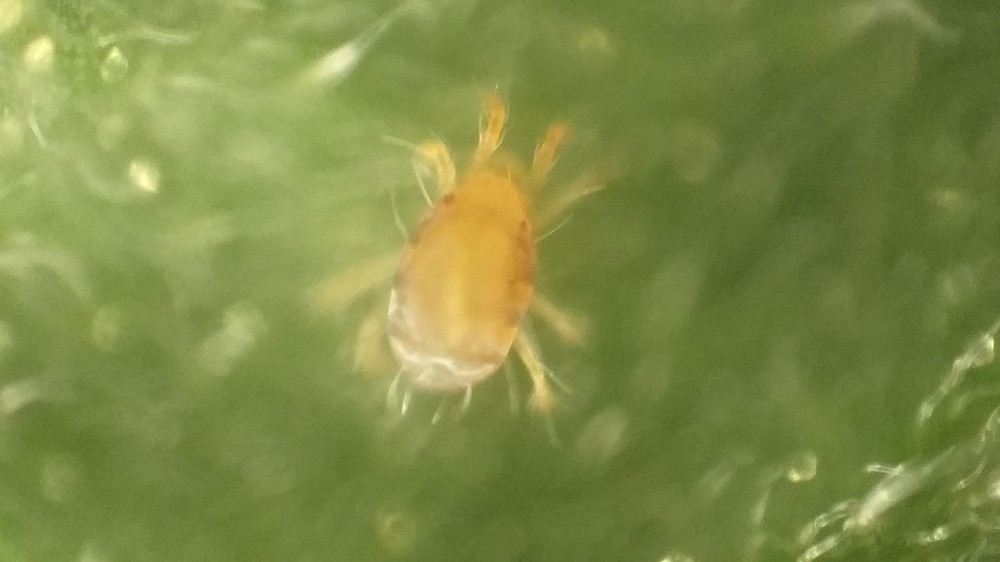Aracnido Rojo: (315, 72, 626, 448)
